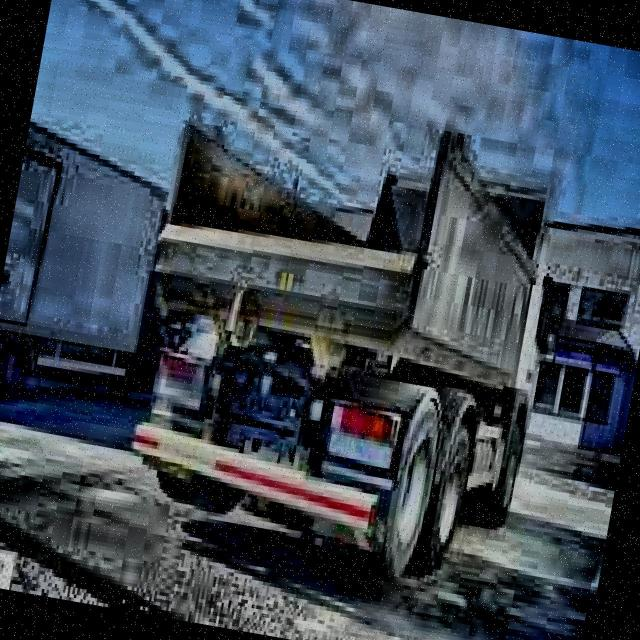dump_truck: (106, 68, 586, 600)
